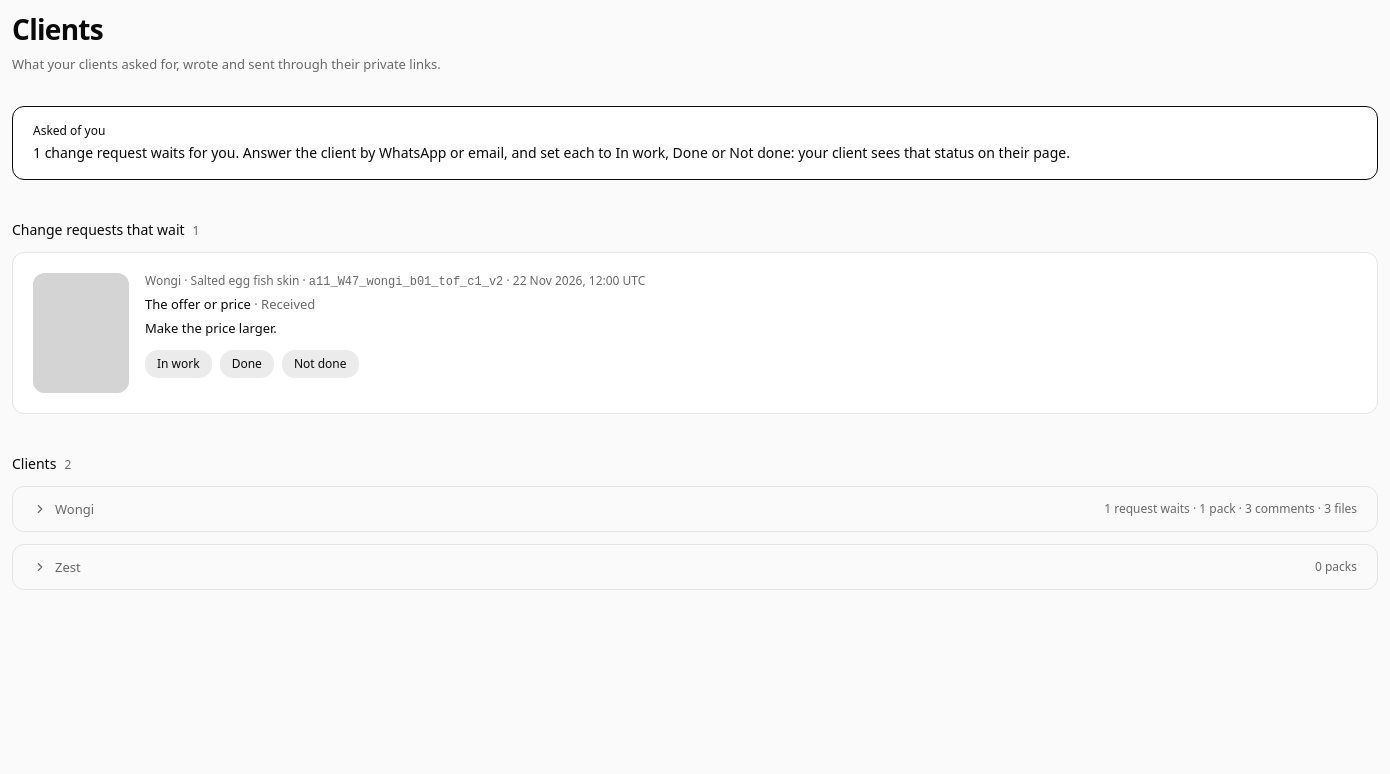
Test: The owner's Clients page › puts the change requests that wait first, and sets a status with one click
expect the text "Make the price larger." is shown: met, box [145,319,277,337]
Click the button with aria-label "Set to In work: Make the price larger".
click(178, 364)  # box [145,350,212,378]
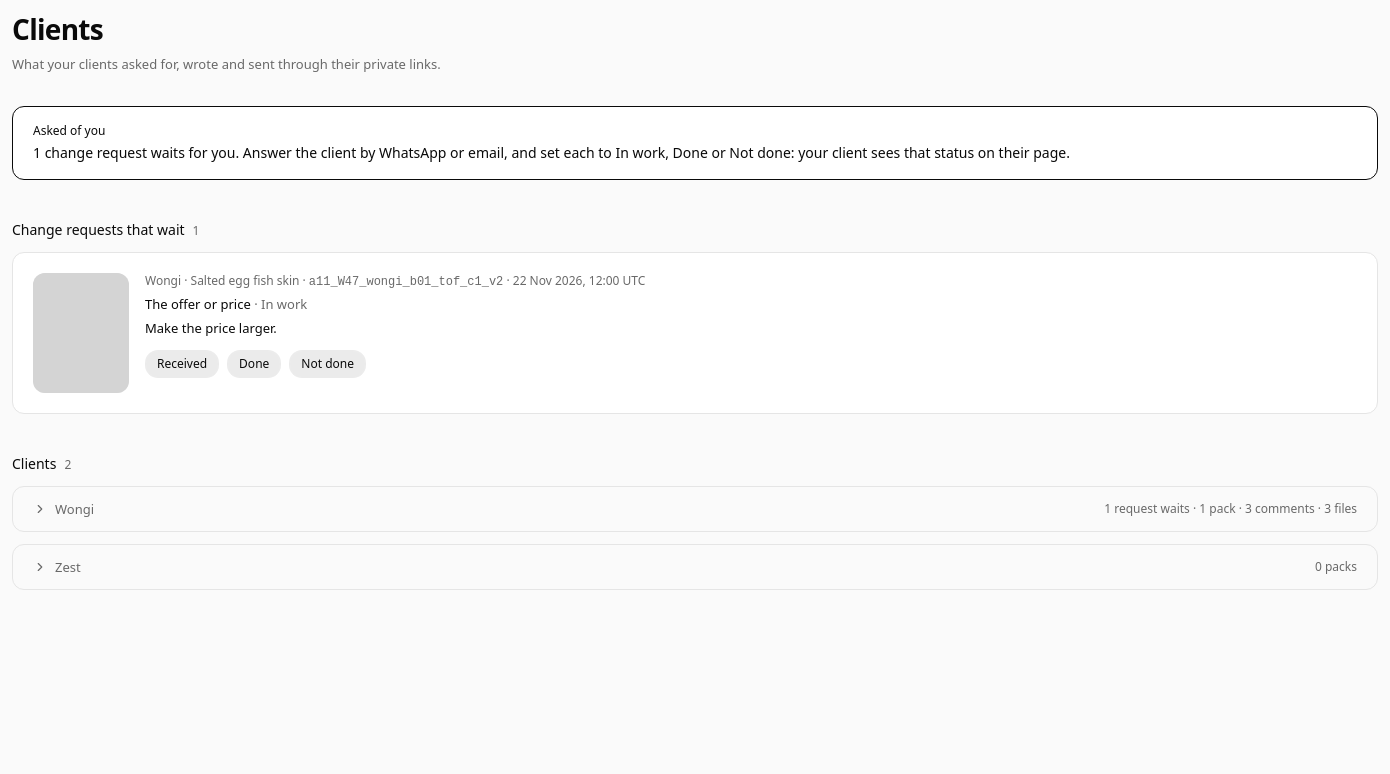
expect the text "· In work" is shown: met, box [254,295,307,313]
Click the button "Wongi 1 request waits · 1 pack · 3 comments · 3 files".
click(75, 509)  # box [13,487,1377,531]
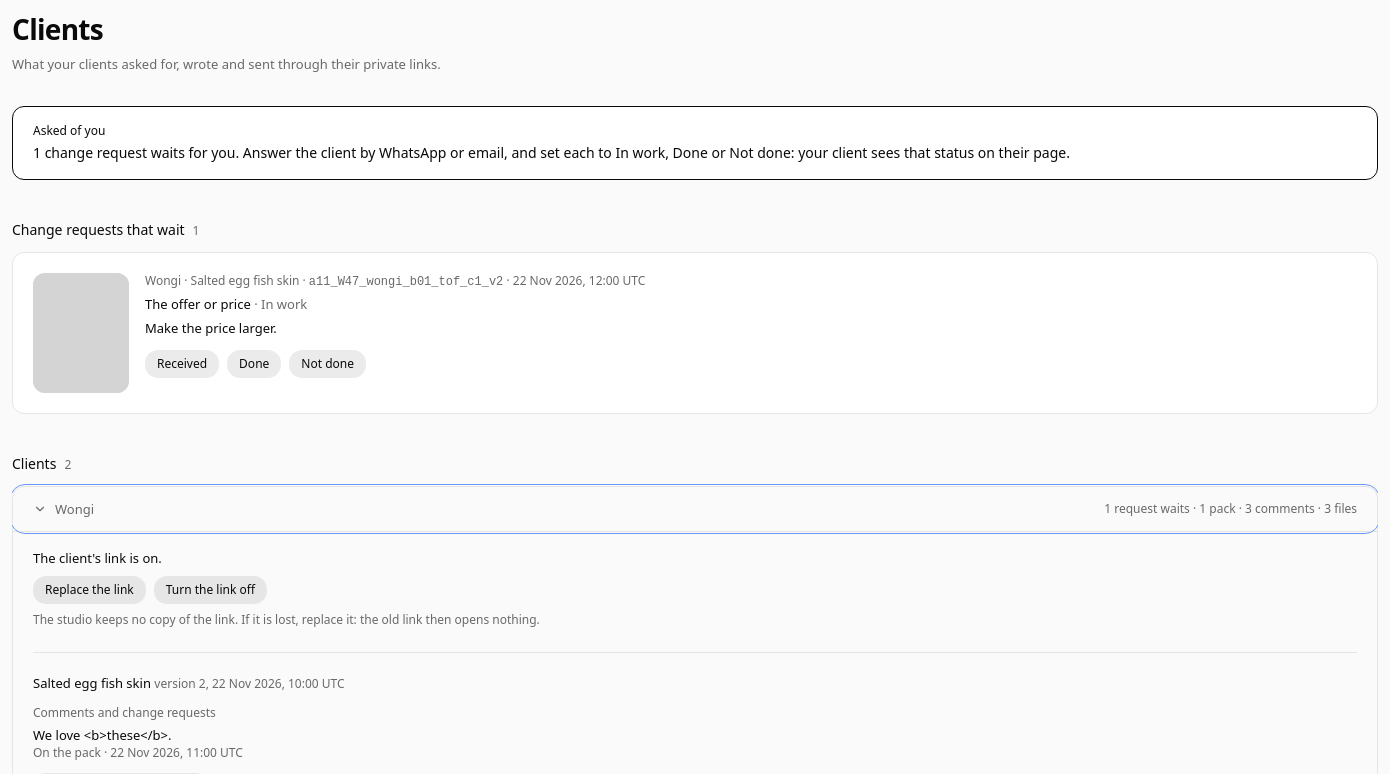
expect the text "We love <b>these</b>." is shown: met, box [33,726,172,744]
